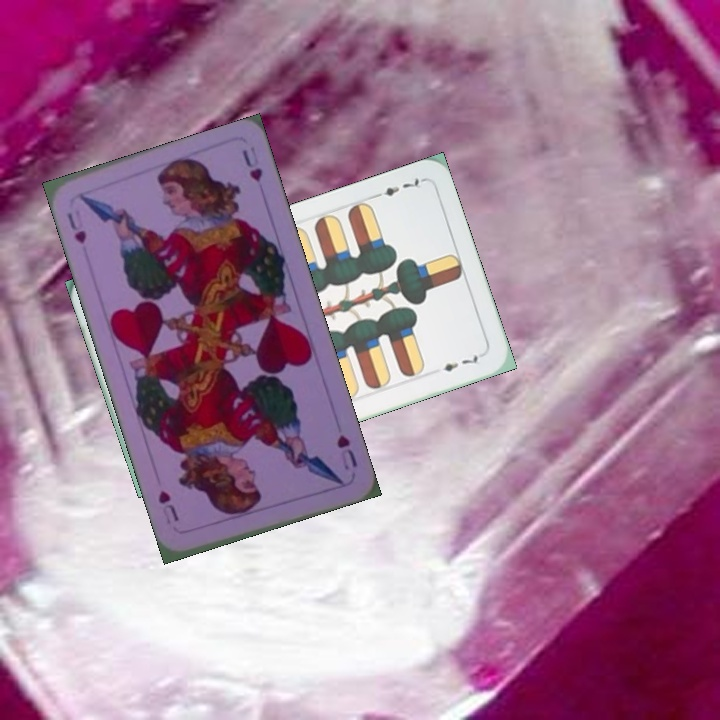E7: (368, 174, 426, 201)
HU: (333, 431, 360, 473), (63, 208, 89, 246)
